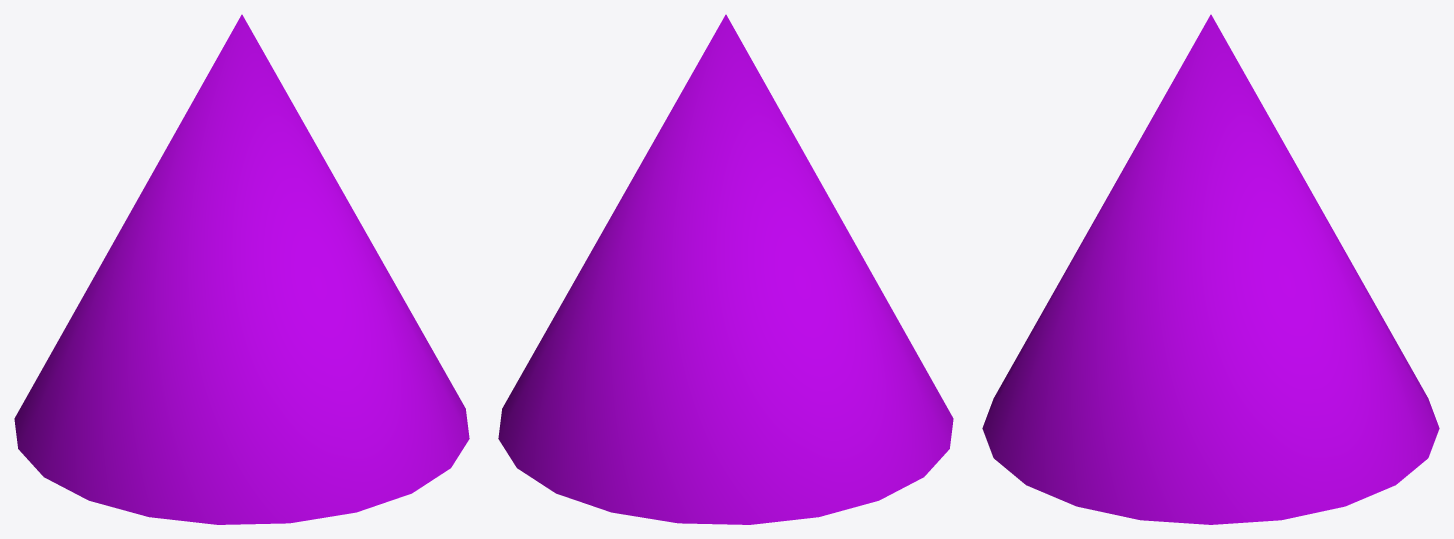
The model's file is Enemy2.fbx.
3 renders of one model, left to right at view 1: azimuth 30°, elevation 25°; view 2: azimuth 150°, elevation 25°; view 3: azimuth 270°, elevation 25°, orthographic.
Visible parts, largest first — view 1: pCone1; view 2: pCone1; view 3: pCone1.
Boxes of the visible parts, x1,y1,x2,y2 form: pCone1: (14,14,469,524); pCone1: (498,14,953,524); pCone1: (982,14,1439,524).
Size of the model in its own units: 2 by 2 by 2.
